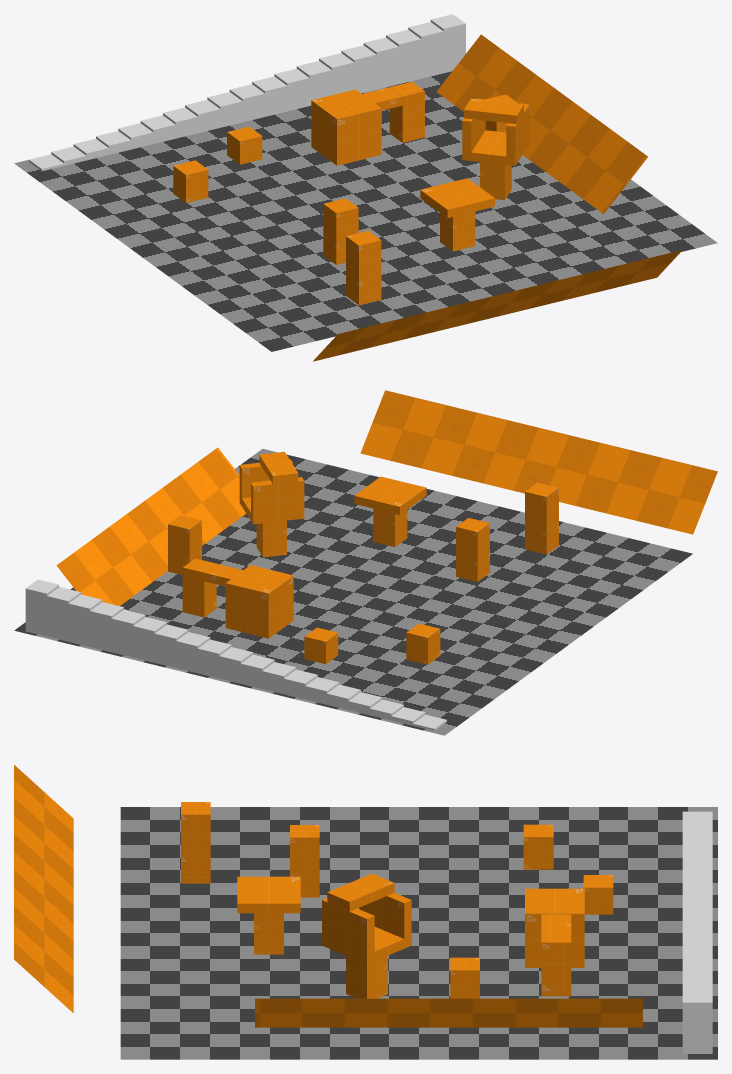
3 views of the same model, one above another, from view 1: azimuth 30°, elevation 25°; view 2: azimuth 150°, elevation 25°; view 3: azimuth 270°, elevation 25° (orthographic). The views are drawn at different scales.
Visible parts, largest first — view 1: Plane, Plane.001, Cube.004, Cube.008, Cube.002, Cube.007, Cube.006, Cube.003, Cube.005, Cube.001, Cube; view 2: Plane, Plane.001, Cube.004, Cube.008, Cube.002, Cube.007, Cube.006, Cube.003, Cube.005, Cube.009, Cube.001, Cube; view 3: Plane, Plane.001, Cube.008, Cube.004, Cube.007, Cube.002, Cube.003, Cube.006, Cube.005, Cube.001, Cube.009, Cube.
Boxes of the visible parts, <box> form: Plane: <box>14,71,717,351</box>; Plane.001: <box>313,34,682,361</box>; Cube.004: <box>29,14,465,171</box>; Cube.008: <box>462,98,529,200</box>; Cube.002: <box>311,89,381,165</box>; Cube.007: <box>420,178,494,251</box>; Cube.006: <box>346,231,381,305</box>; Cube.003: <box>362,81,424,142</box>; Cube.005: <box>323,198,358,264</box>; Cube.001: <box>173,160,208,202</box>; Cube: <box>227,126,262,164</box>; Plane: <box>14,448,692,735</box>; Plane.001: <box>56,390,717,605</box>; Cube.004: <box>25,579,446,730</box>; Cube.008: <box>239,451,304,557</box>; Cube.002: <box>225,565,293,638</box>; Cube.007: <box>354,476,426,547</box>; Cube.006: <box>525,482,558,554</box>; Cube.003: <box>182,558,242,617</box>; Cube.005: <box>456,518,489,581</box>; Cube.009: <box>168,515,201,574</box>; Cube.001: <box>406,623,440,664</box>; Cube: <box>304,627,338,664</box>; Plane: <box>120,807,717,1059</box>; Plane.001: <box>14,765,642,1027</box>; Cube.008: <box>322,873,411,998</box>; Cube.004: <box>682,811,712,1053</box>; Cube.007: <box>237,876,300,954</box>; Cube.002: <box>525,888,584,967</box>; Cube.003: <box>541,914,571,996</box>; Cube.006: <box>181,802,210,883</box>; Cube.005: <box>290,825,319,897</box>; Cube.001: <box>523,824,553,869</box>; Cube.009: <box>450,957,479,998</box>; Cube: <box>583,875,613,914</box>.
Bounding box in the file's own units: 20 × 3.83 × 23.57.
Materials: 3 (3 with a texture image).
